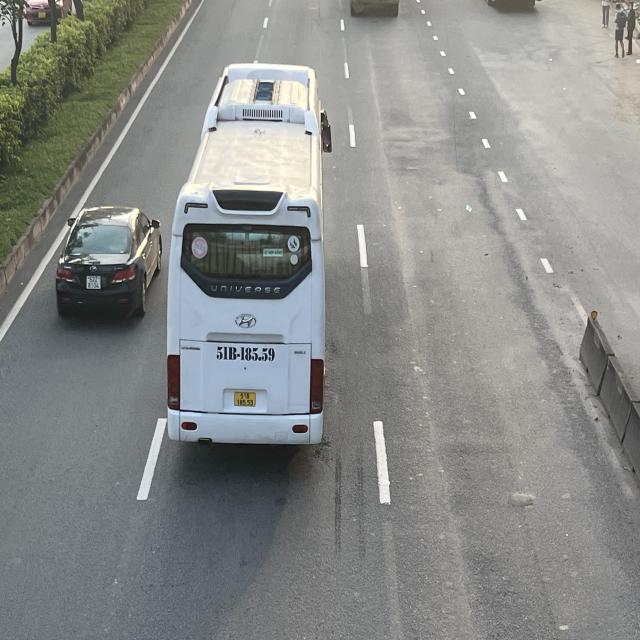car: (53, 207, 162, 322)
coach: (172, 65, 334, 455)
